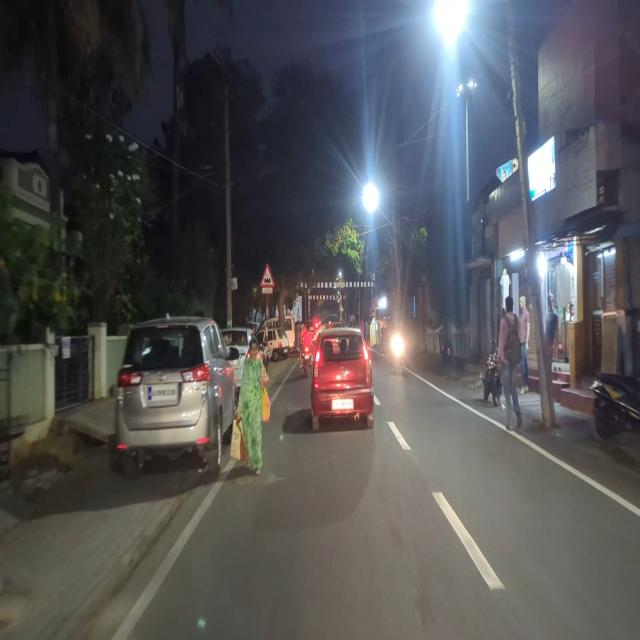bien_cam: (260, 262, 276, 288)
